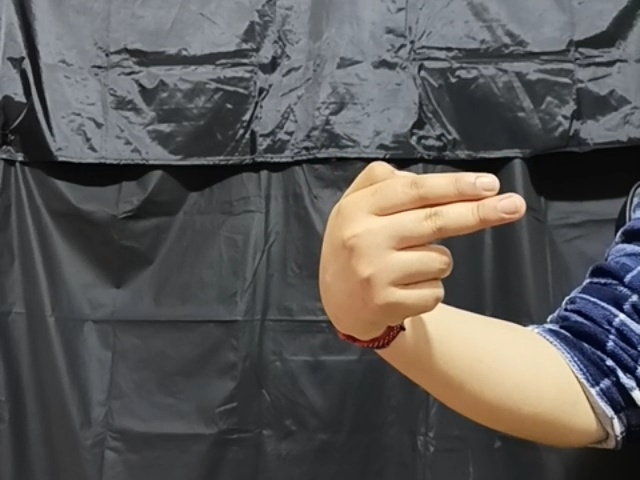H: (310, 158, 537, 326)
